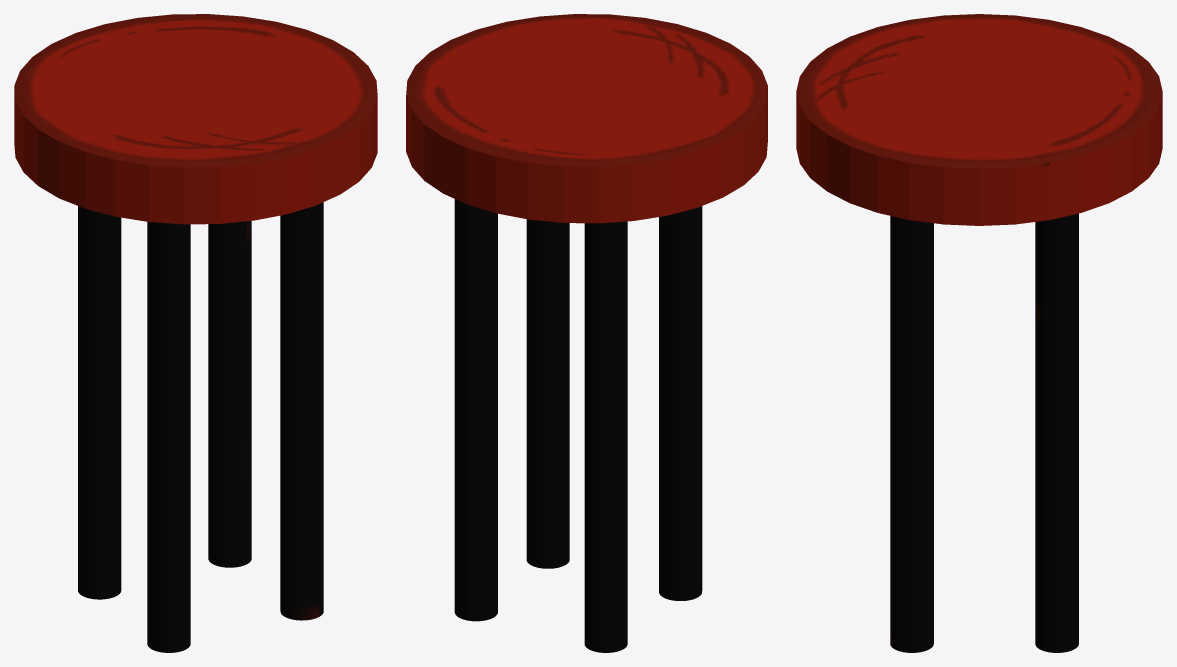
Rendered from Chair.fbx.
3 views of the same model, side by side, from view 1: azimuth 30°, elevation 25°; view 2: azimuth 150°, elevation 25°; view 3: azimuth 270°, elevation 25° (orthographic).
Visible parts, largest first — view 1: Cylinder.019; view 2: Cylinder.019; view 3: Cylinder.019.
Part boxes in pixels (box(x1,y1,x2,y2)): Cylinder.019: box(14, 14, 377, 652); Cylinder.019: box(406, 14, 767, 652); Cylinder.019: box(796, 14, 1162, 652).
Size of the model in its own units: 499 by 778 by 499.
Materials: 1 (1 with a texture image).
